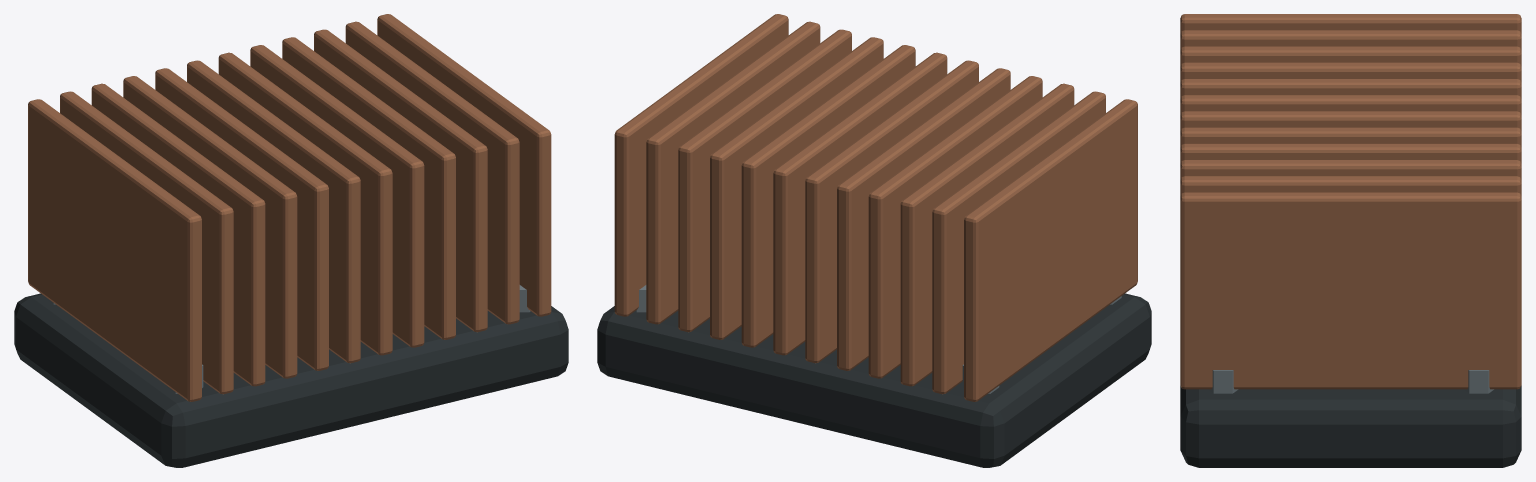
Rendered from internal_cooling.glb.
The picture shows the model from 3 angles, left to right: view 1: azimuth 30°, elevation 25°; view 2: azimuth 150°, elevation 25°; view 3: azimuth 270°, elevation 25°; orthographic projection. The views are drawn at different scales.
Parts seen in each view (by area): view 1: Cube, Cube.001, Cube.007, Cube.008, Cube.011, Cube.003, Cube.004, Cube.012, Cube.005, Cube.006, Cube.009, Cube.010 (+1 smaller); view 2: Cube, Cube.001, Cube.007, Cube.008, Cube.011, Cube.003, Cube.004, Cube.012, Cube.005, Cube.006, Cube.009, Cube.010 (+1 smaller); view 3: Cube.012, Cube, Cube.001, Cube.006, Cube.011, Cube.002, Cube.003, Cube.004, Cube.007, Cube.009, Cube.008, Cube.010 (+3 smaller).
Part boxes in pixels (x1=…): Cube: x1=14, y1=293, x2=568, y2=467; Cube.001: x1=28, y1=99, x2=201, y2=401; Cube.007: x1=218, y1=52, x2=392, y2=355; Cube.008: x1=250, y1=45, x2=424, y2=347; Cube.011: x1=345, y1=21, x2=519, y2=324; Cube.003: x1=91, y1=83, x2=265, y2=386; Cube.004: x1=123, y1=76, x2=297, y2=378; Cube.012: x1=377, y1=14, x2=551, y2=316; Cube.005: x1=155, y1=68, x2=328, y2=370; Cube.006: x1=187, y1=60, x2=360, y2=363; Cube.009: x1=282, y1=37, x2=455, y2=339; Cube.010: x1=314, y1=29, x2=487, y2=332; Cube: x1=597, y1=293, x2=1151, y2=467; Cube.001: x1=964, y1=99, x2=1137, y2=401; Cube.007: x1=773, y1=52, x2=947, y2=355; Cube.008: x1=741, y1=45, x2=915, y2=347; Cube.011: x1=646, y1=21, x2=820, y2=324; Cube.003: x1=900, y1=83, x2=1074, y2=386; Cube.004: x1=868, y1=76, x2=1042, y2=378; Cube.012: x1=614, y1=14, x2=788, y2=316; Cube.005: x1=837, y1=68, x2=1010, y2=370; Cube.006: x1=805, y1=60, x2=978, y2=363; Cube.009: x1=710, y1=37, x2=883, y2=339; Cube.010: x1=678, y1=29, x2=851, y2=332; Cube.012: x1=1180, y1=192, x2=1521, y2=389; Cube: x1=1180, y1=385, x2=1521, y2=467; Cube.001: x1=1180, y1=14, x2=1521, y2=33; Cube.006: x1=1180, y1=95, x2=1521, y2=114; Cube.011: x1=1180, y1=176, x2=1521, y2=195; Cube.002: x1=1180, y1=30, x2=1521, y2=49; Cube.003: x1=1180, y1=46, x2=1521, y2=66; Cube.004: x1=1180, y1=62, x2=1521, y2=82; Cube.007: x1=1180, y1=111, x2=1521, y2=130; Cube.009: x1=1180, y1=143, x2=1521, y2=163; Cube.008: x1=1180, y1=127, x2=1521, y2=147; Cube.010: x1=1180, y1=160, x2=1521, y2=179.
Size of the model in its own units: 0.23 by 0.1375 by 0.16.
